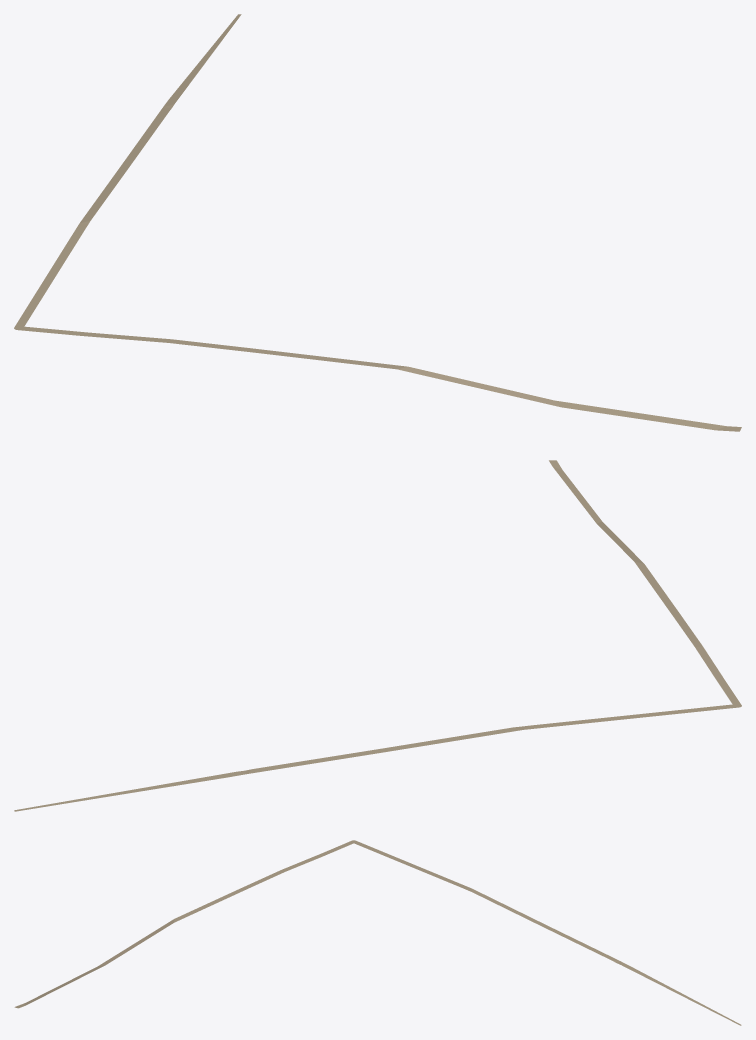
File: farm_10_14_track.glb
3 views of the same model, one above another, from view 1: azimuth 30°, elevation 25°; view 2: azimuth 150°, elevation 25°; view 3: azimuth 270°, elevation 25° (orthographic). The views are drawn at different scales.
Parts seen in each view (by area): view 1: geometry_0; view 2: geometry_0; view 3: geometry_0.
Part boxes in pixels (<box>): geometry_0: <box>14,14,741,431</box>; geometry_0: <box>14,460,741,811</box>; geometry_0: <box>14,840,741,1025</box>.
Size of the model in its own units: 212 by 12.04 by 391.
